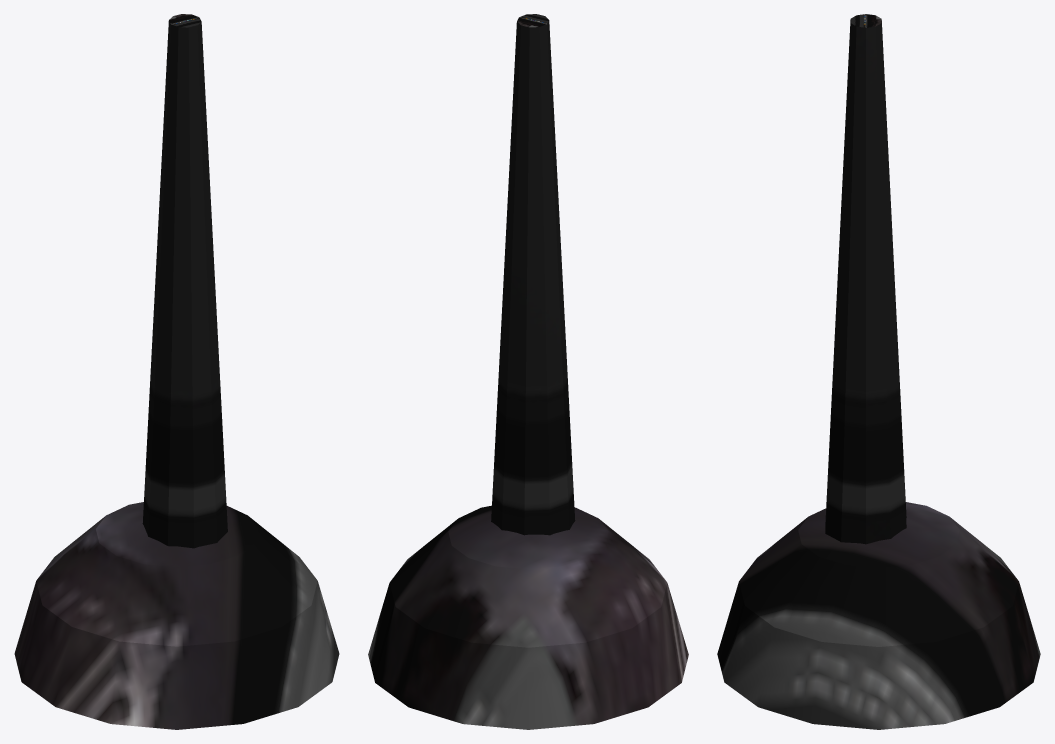
Rendered from Tx_prop_stylus_pen_art.fbx.
3 renders of one model, left to right at view 1: azimuth 30°, elevation 25°; view 2: azimuth 150°, elevation 25°; view 3: azimuth 270°, elevation 25°, orthographic.
Visible parts, largest first — view 1: Tx_prop_stylus_pen_art; view 2: Tx_prop_stylus_pen_art; view 3: Tx_prop_stylus_pen_art.
Boxes of the visible parts, left/top/right/bottom form: Tx_prop_stylus_pen_art: left=14, top=14, right=339, bottom=729; Tx_prop_stylus_pen_art: left=368, top=14, right=688, bottom=729; Tx_prop_stylus_pen_art: left=717, top=14, right=1040, bottom=729.
Size of the model in its own units: 1.32 by 2.9 by 1.32.
